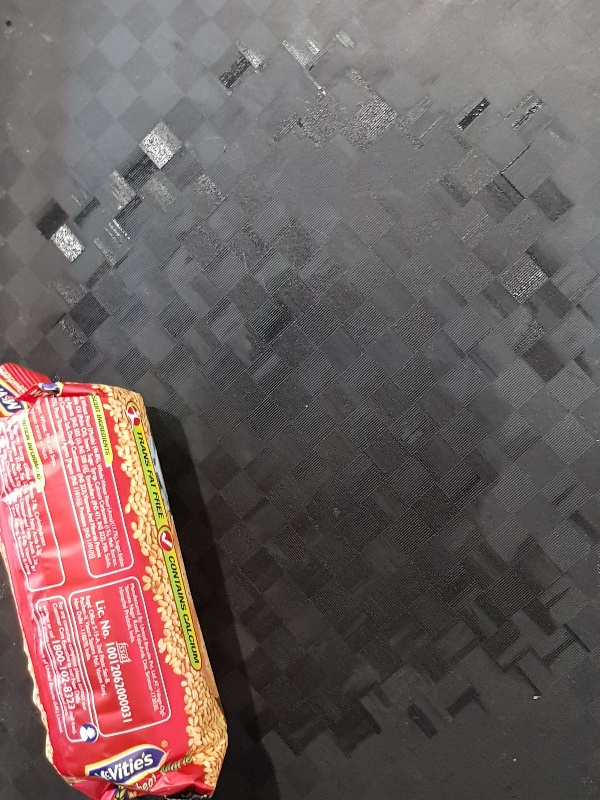McVitie's Wholewheat Marie: (1, 361, 229, 800)
